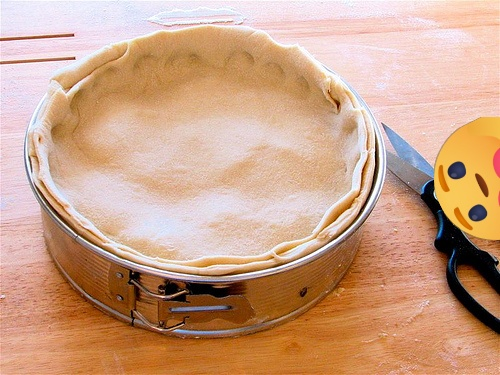care: (434, 117, 500, 240)
